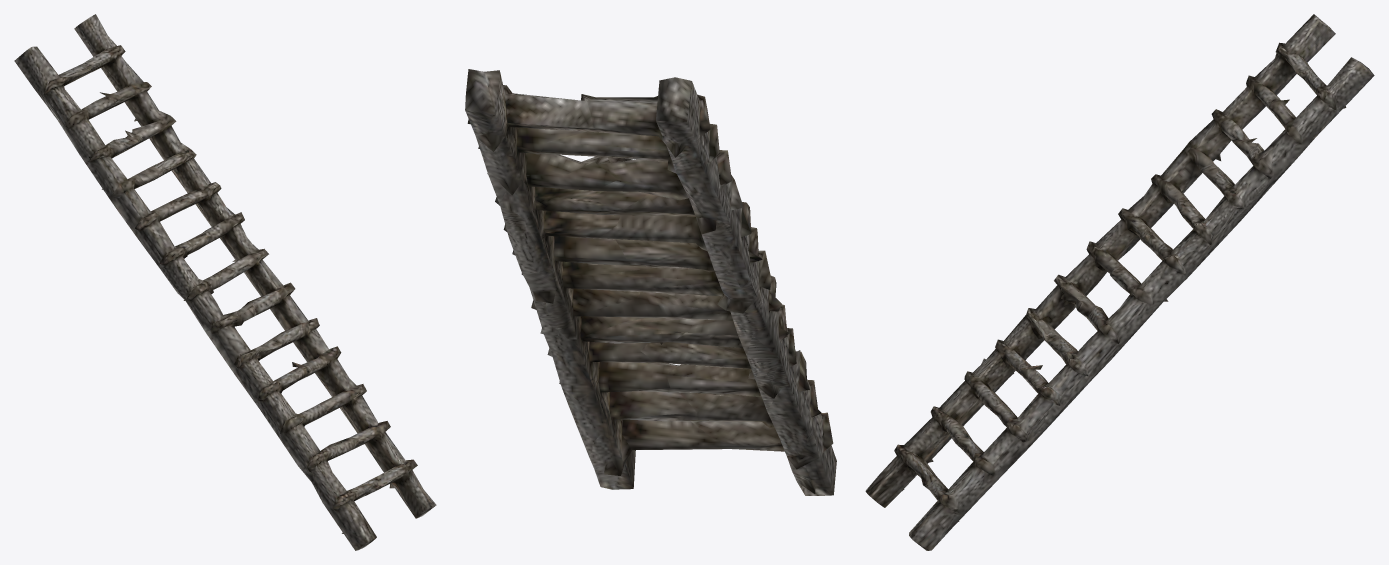
File: bb_ladder.4970e24ef8.glb
3 views of the same model, side by side, from view 1: azimuth 30°, elevation 25°; view 2: azimuth 150°, elevation 25°; view 3: azimuth 270°, elevation 25° (orthographic). The views are drawn at different scales.
Visible parts, largest first — view 1: bb_ladder; view 2: bb_ladder; view 3: bb_ladder.
Boxes of the visible parts, left/top/right/bottom form: bb_ladder: left=14, top=14, right=436, bottom=550; bb_ladder: left=465, top=69, right=836, bottom=495; bb_ladder: left=865, top=14, right=1374, bottom=550.
Size of the model in its own units: 1.99 by 3.21 by 3.5.
Materials: 1 (1 with a texture image).
